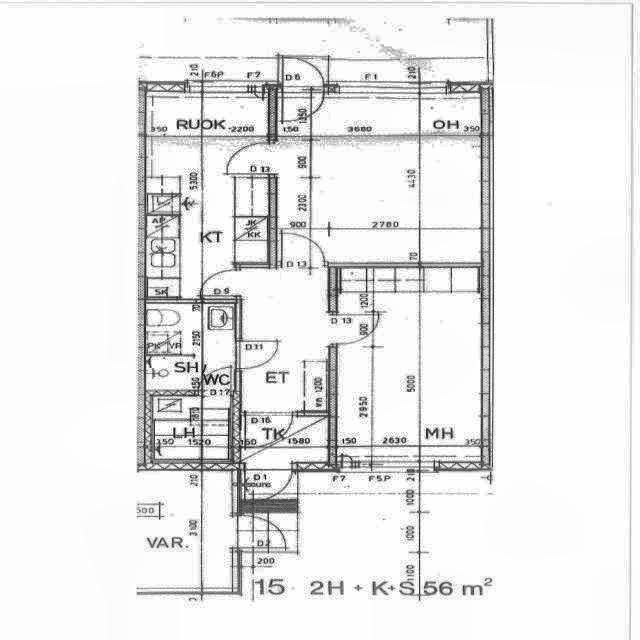room: (277, 91, 482, 264), (336, 267, 482, 462), (240, 267, 329, 411), (145, 303, 235, 391), (153, 396, 232, 461), (240, 415, 329, 464)
